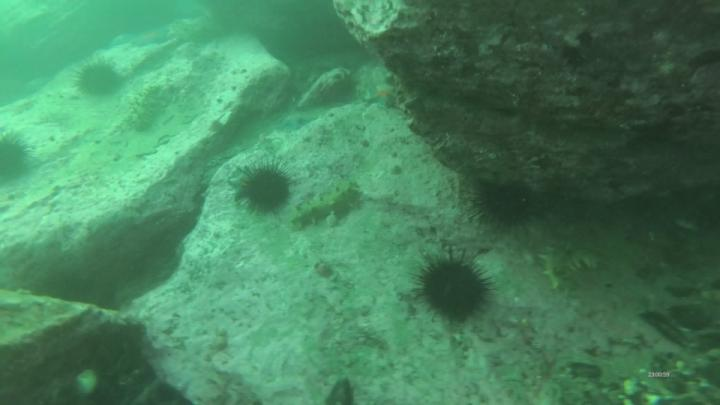echinus: (422, 257, 486, 323), (236, 168, 289, 215), (480, 185, 538, 224), (78, 63, 119, 95), (2, 139, 27, 182)
holothurian: (295, 184, 363, 229), (544, 244, 598, 290), (130, 84, 160, 132)
starfish: (284, 109, 312, 131), (365, 90, 397, 109)
